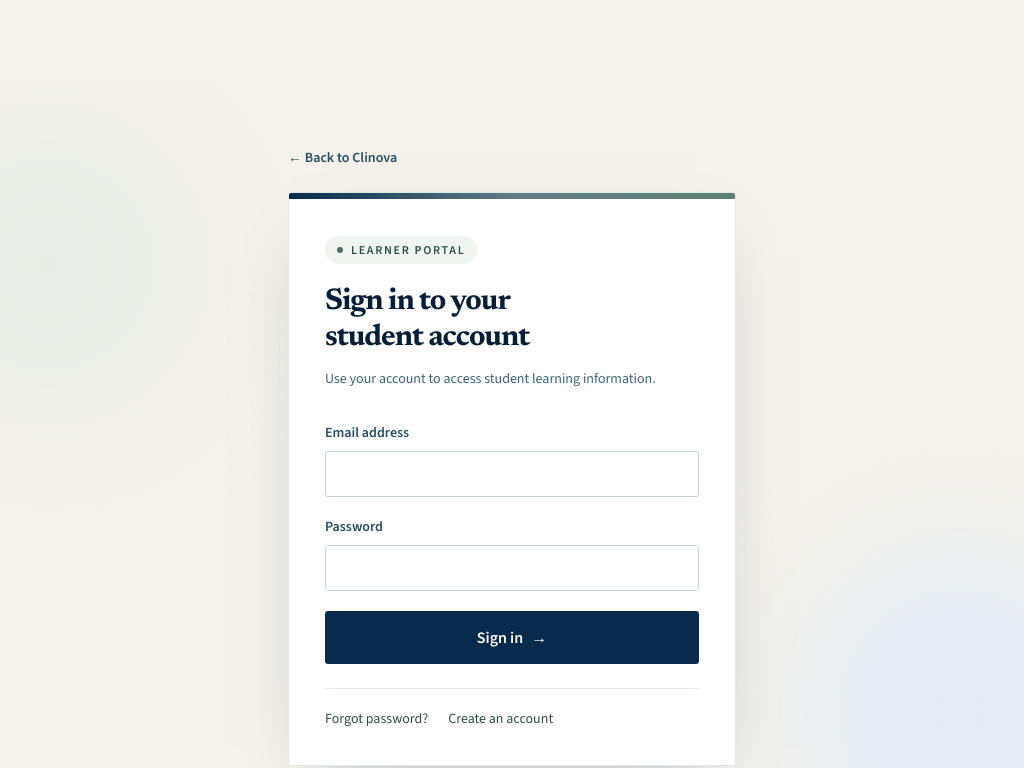
Test: safe return targets and AuthPage validation › validates email and password, and ignores duplicate pending submits
The image size is (1024, 768).
Later steps or results of the test are not shown.
In the field labelled "Email address": (512, 474) [325, 451, 699, 497], type "not-an-email"
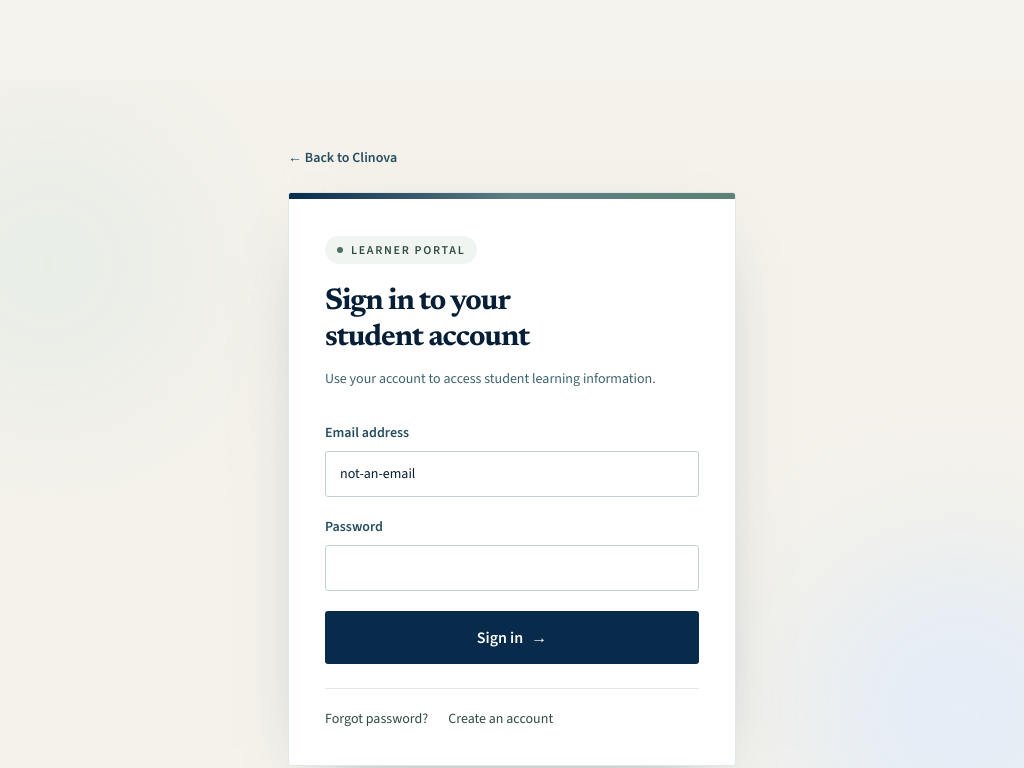
In the password field labelled "Password": (512, 568) [325, 545, 699, 591], type "secret"
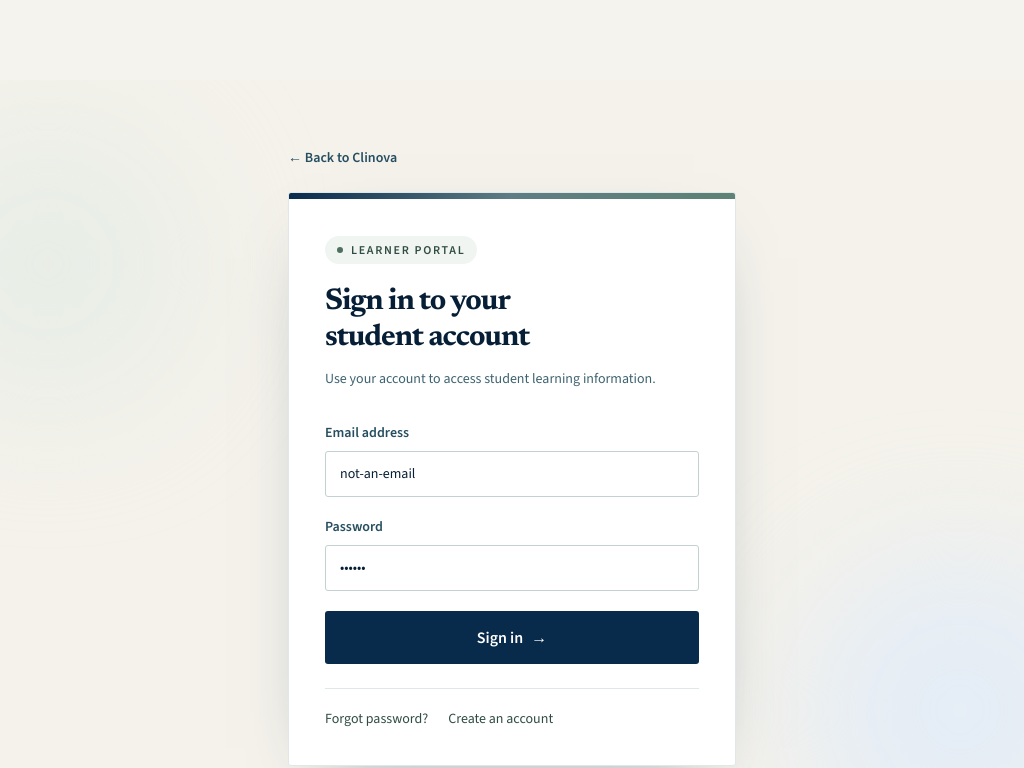
Submit the form, box [325, 423, 699, 664]
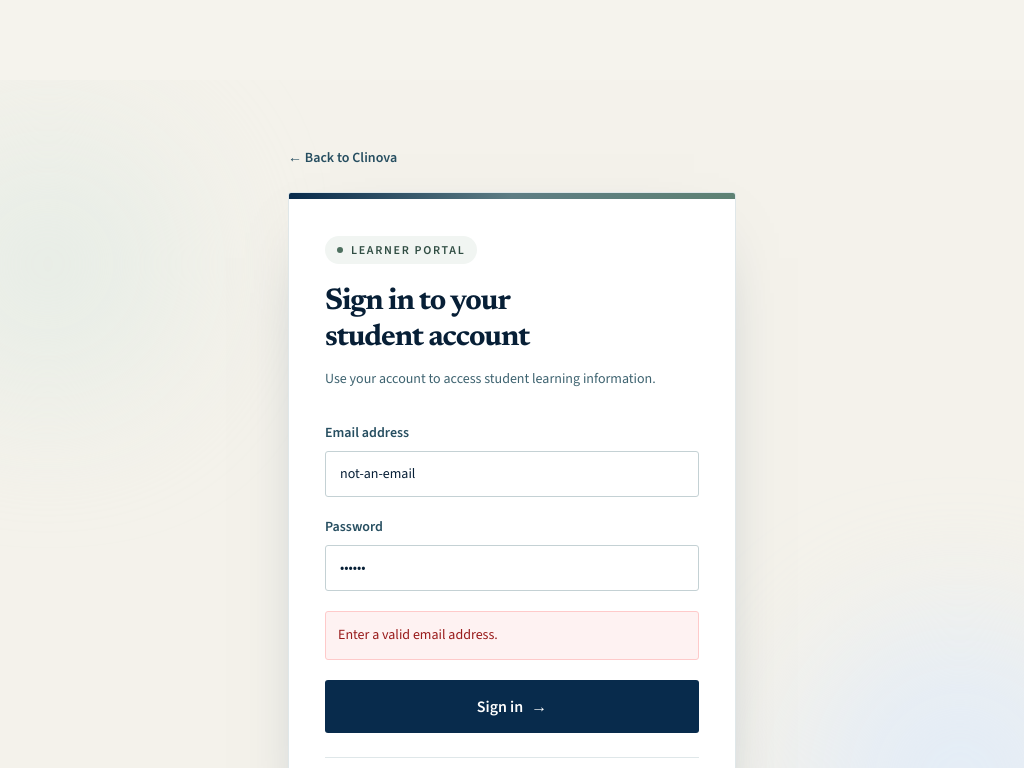
Expected: the message reads "Enter a valid email address.", [338, 625, 498, 644]
